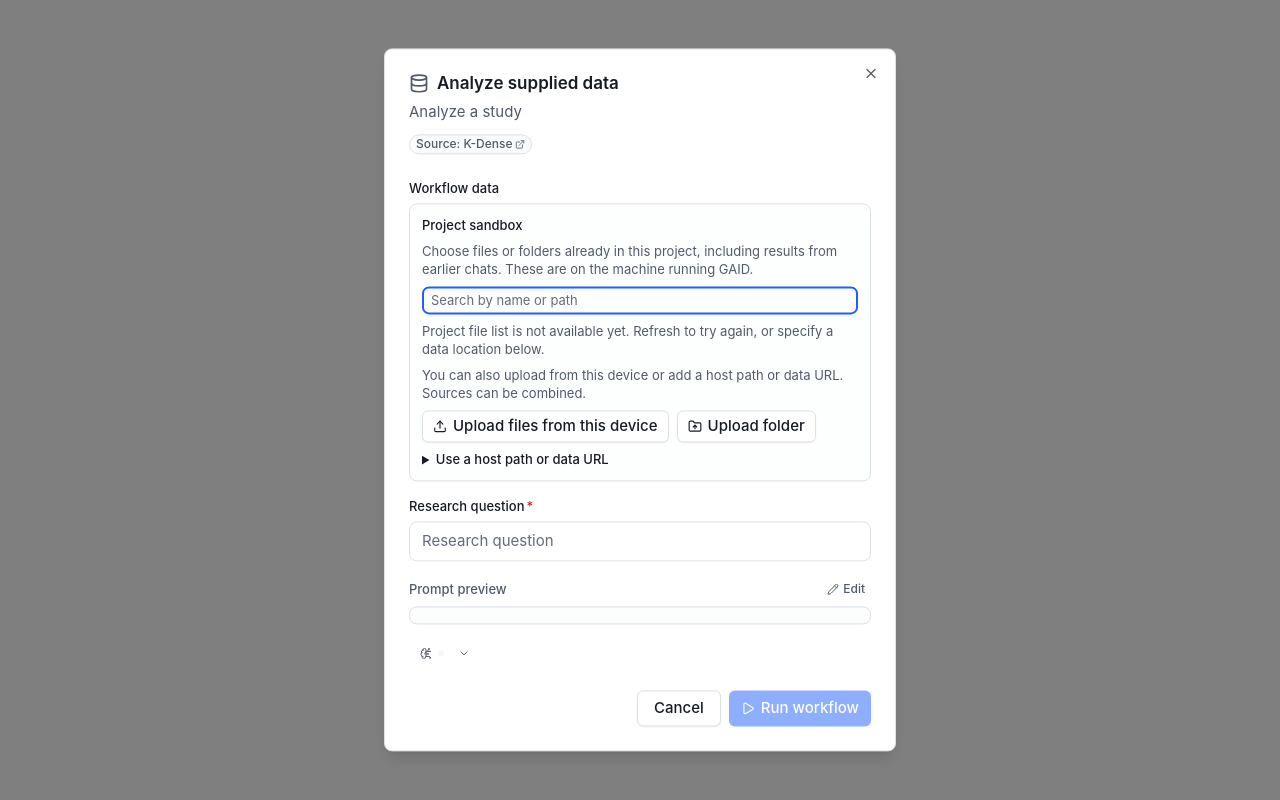
workflow data sources › keeps alternative sources available when the sandbox is empty or unavailable (ready=false)
This screenshot has width=1280, height=800.
Type "treatment response" into the field with placeholder "Research question".
click(640, 541); type("treatment response")  # box [409, 521, 871, 561]
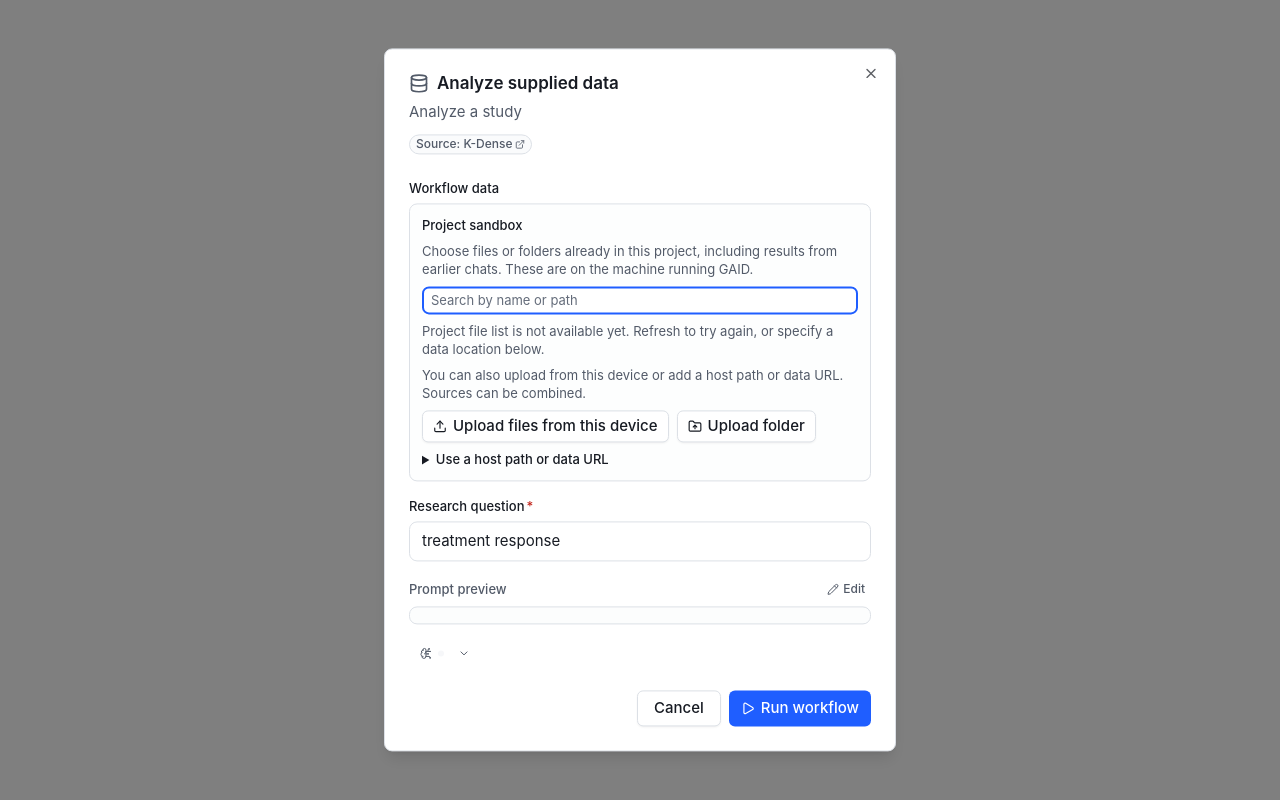
Expected: the text "Project file list is not available yet" is shown, [422, 323, 833, 357]
Expected: the button "Upload files from this device" is enabled, [422, 410, 669, 442]
Click the heading "Use a host path or data URL".
click(522, 459)  # box [436, 451, 609, 467]
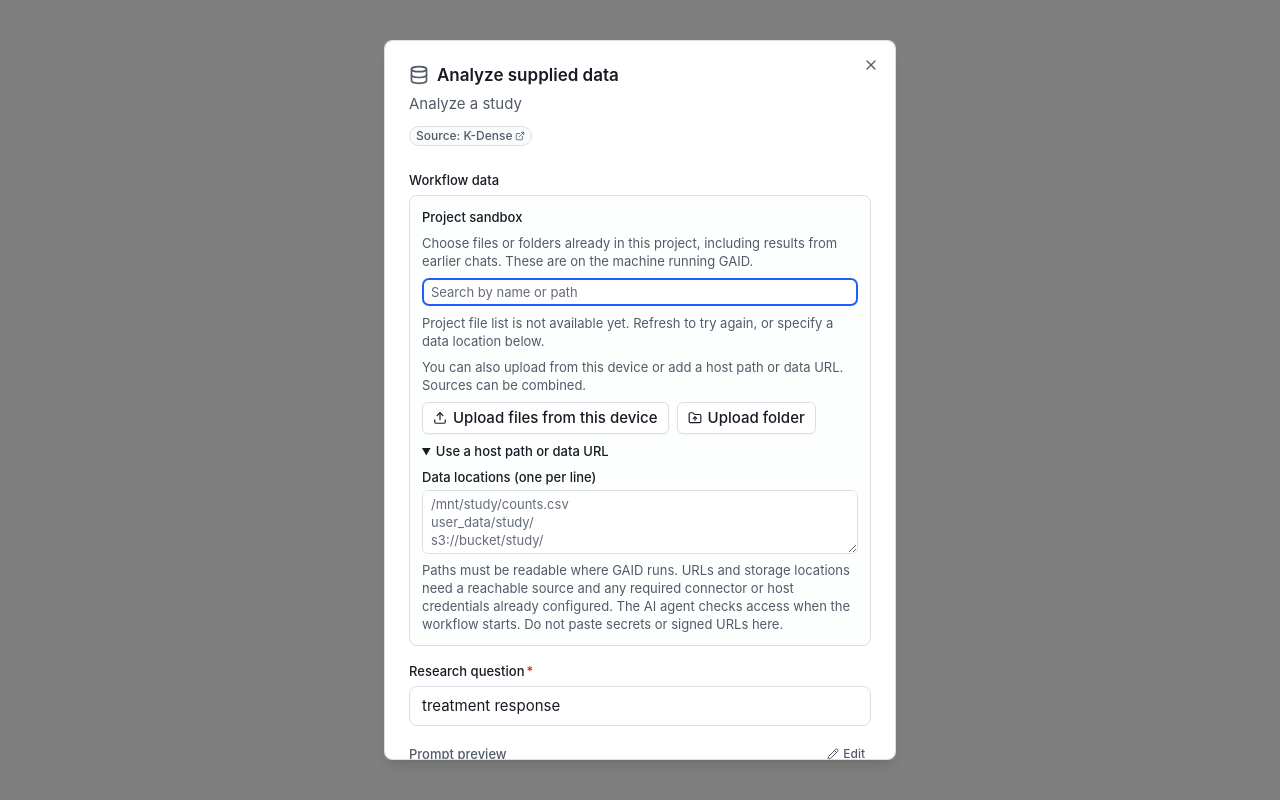
Result: the text box labelled "Data locations (one per line)" is shown at [422, 490, 858, 554]
